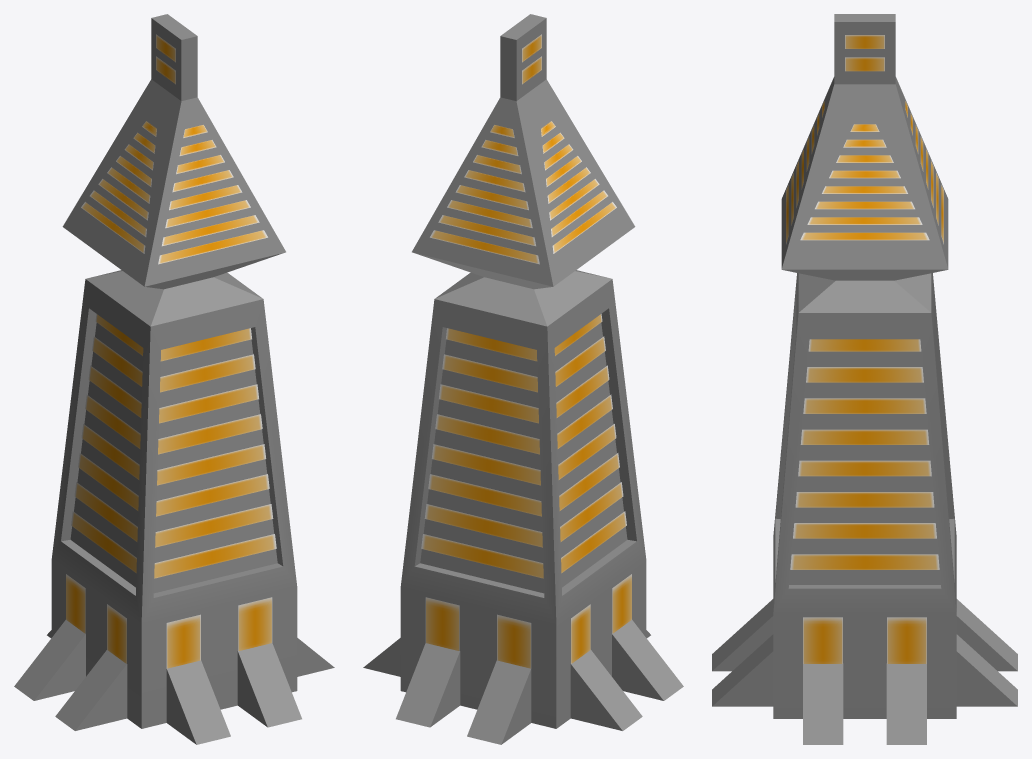
The model's file is Building_016.fbx.
The picture shows the model from 3 angles, left to right: view 1: azimuth 30°, elevation 25°; view 2: azimuth 150°, elevation 25°; view 3: azimuth 270°, elevation 25°; orthographic projection.
Visible parts, largest first — view 1: Building_016; view 2: Building_016; view 3: Building_016.
Boxes of the visible parts, x1,y1,x2,y2 form: Building_016: [14, 14, 334, 744]; Building_016: [363, 14, 683, 744]; Building_016: [712, 14, 1017, 744].
Bounding box in the file's own units: 45.34 × 108 × 45.34.
